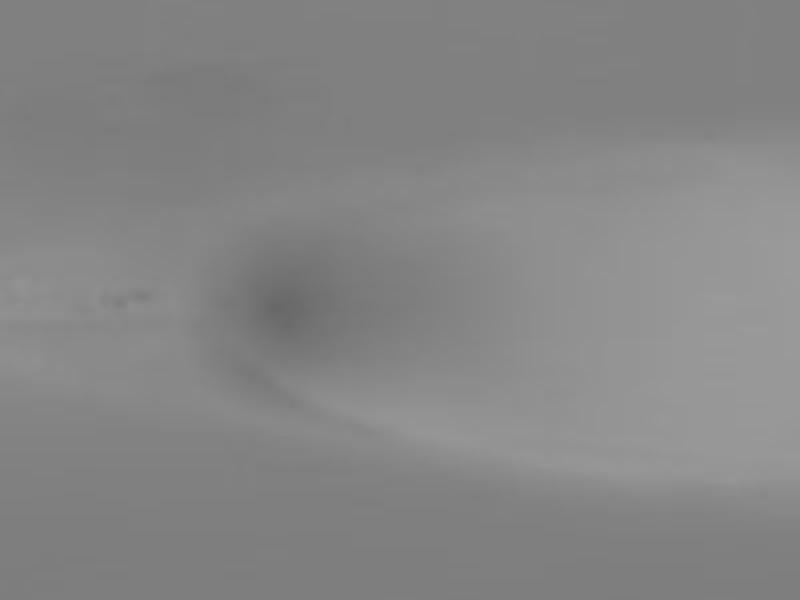defect: (218, 244, 368, 351), (126, 285, 153, 303), (96, 292, 115, 309), (111, 297, 126, 312)
